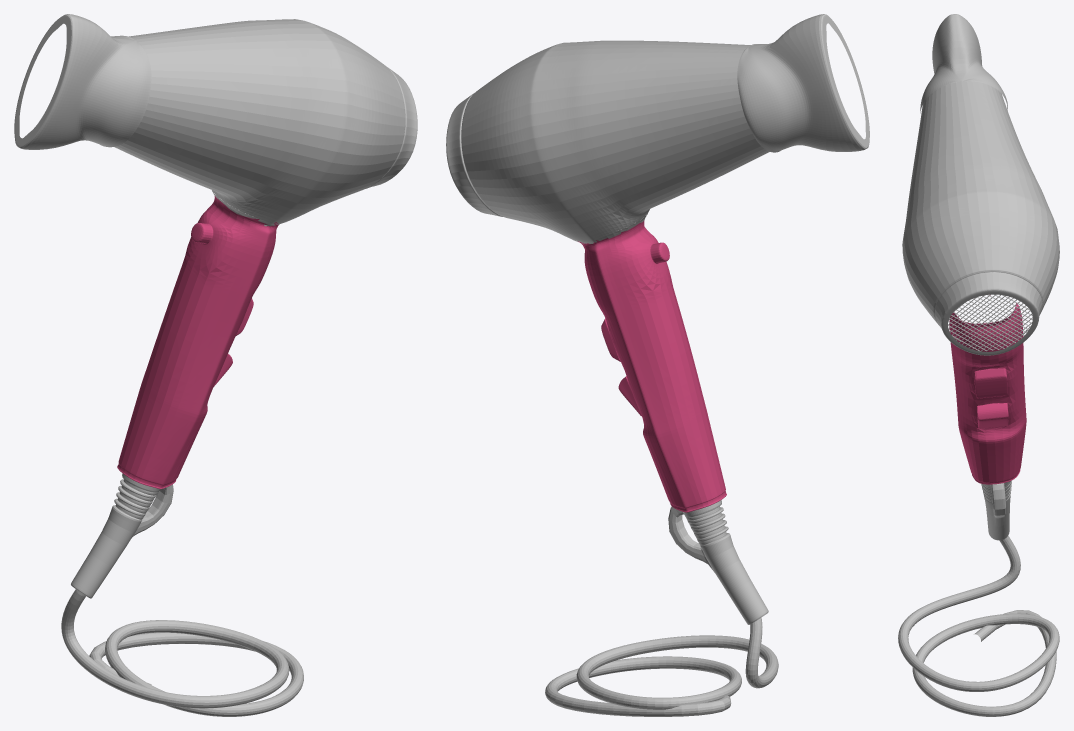
File: interactive_13_2.glb
3 views of the same model, side by side, from view 1: azimuth 30°, elevation 25°; view 2: azimuth 150°, elevation 25°; view 3: azimuth 270°, elevation 25° (orthographic). The views are drawn at different scales.
Visible parts, largest first — view 1: pred_target_mesh.ply; view 2: pred_target_mesh.ply; view 3: pred_target_mesh.ply.
Boxes of the visible parts, x1,y1,x2,y2 form: pred_target_mesh.ply: (14, 14, 417, 716); pred_target_mesh.ply: (446, 14, 869, 716); pred_target_mesh.ply: (898, 14, 1059, 716).
Size of the model in its own units: 0.4867 by 0.8489 by 0.206.
